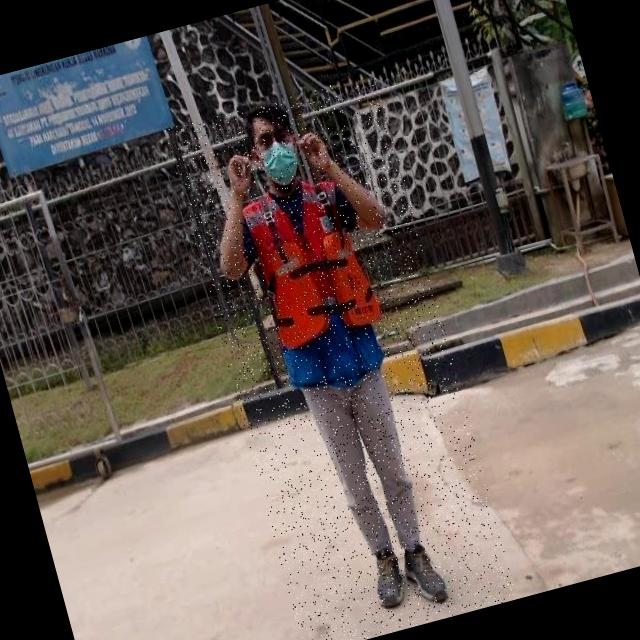no-boots: (396, 538, 452, 613), (365, 543, 411, 613)
no-gloves: (212, 136, 269, 210), (288, 122, 338, 189)
no-helmet: (224, 85, 331, 208)
vest: (239, 172, 393, 391)
